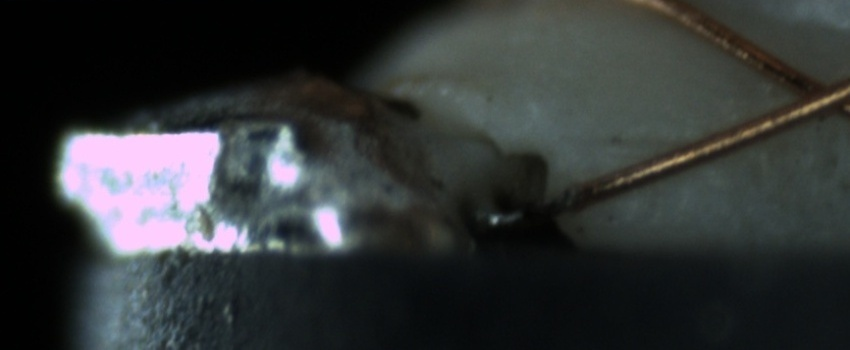CL: (762, 56, 850, 126)
DL: (581, 110, 709, 171)
